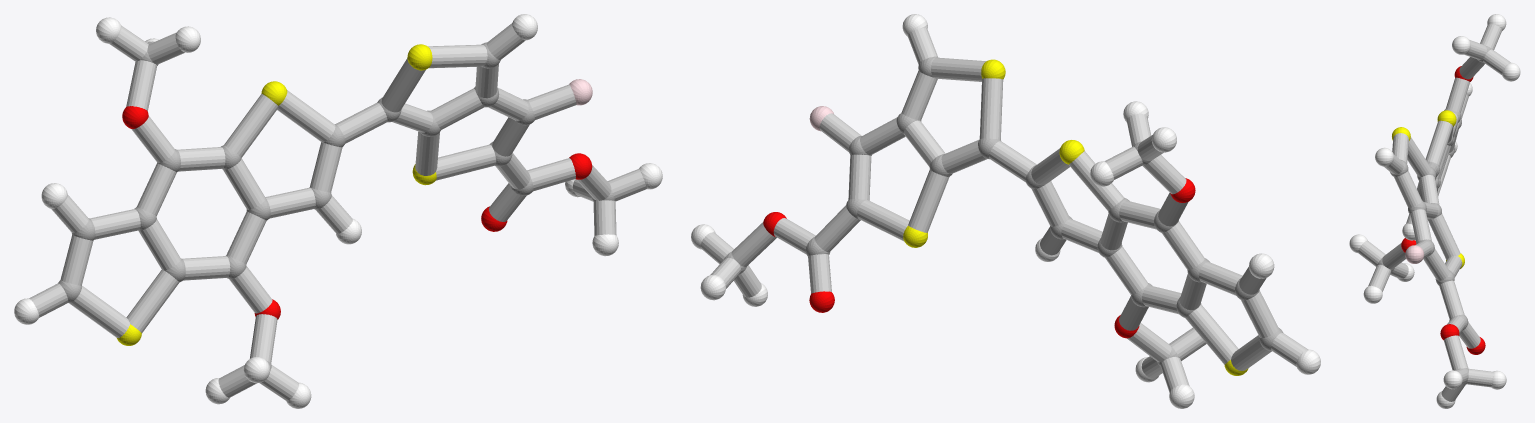
Rendered from Dimethoxy_Benzodithiophene_Phi_10_Theta_220_Methylcarbonyl_3_Fluoro_Thienothiophene.glb.
3 renders of one model, left to right at view 1: azimuth 30°, elevation 25°; view 2: azimuth 150°, elevation 25°; view 3: azimuth 270°, elevation 25°, orthographic. The views are drawn at different scales.
Parts seen in each view (by area): view 1: grp15205, grp8689, grp1, grp7241, grp13395; view 2: grp15205, grp8689, grp1, grp7241, grp13395; view 3: grp15205, grp8689, grp1, grp13395, grp7241, grp14843.
Boxes of the visible parts, x1,y1,x2,y2 form: grp15205: [29, 23, 646, 401]; grp8689: [14, 14, 662, 408]; grp1: [58, 42, 614, 371]; grp7241: [117, 44, 436, 345]; grp13395: [122, 106, 592, 319]; grp15205: [700, 28, 1307, 392]; grp8689: [691, 14, 1320, 408]; grp1: [723, 56, 1283, 366]; grp7241: [903, 59, 1248, 375]; grp13395: [763, 178, 1195, 338]; grp15205: [1358, 23, 1510, 401]; grp8689: [1349, 14, 1520, 408]; grp1: [1377, 45, 1492, 385]; grp13395: [1401, 66, 1485, 354]; grp7241: [1392, 110, 1464, 268]; grp14843: [1405, 245, 1424, 263].
Size of the model in its own units: 16.94 by 8.76 by 5.39.
